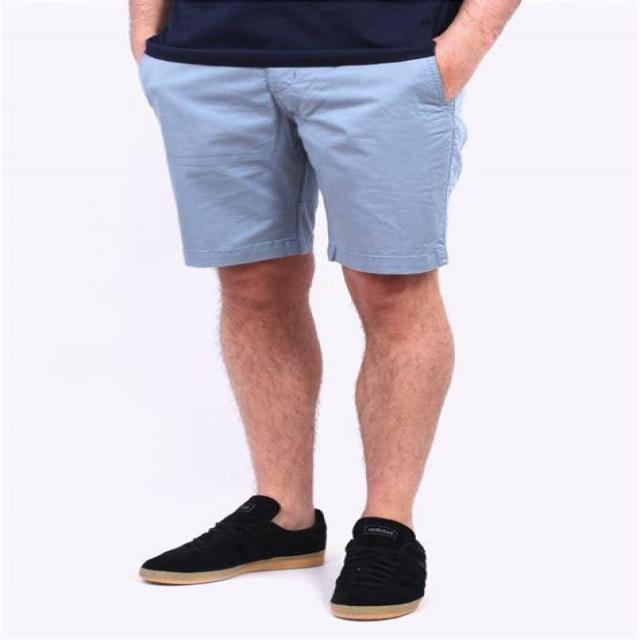short: (138, 45, 468, 275)
